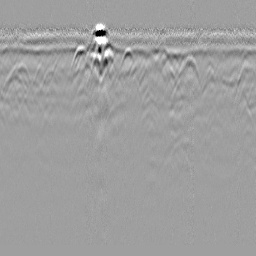cavity: (118, 46, 136, 72)
